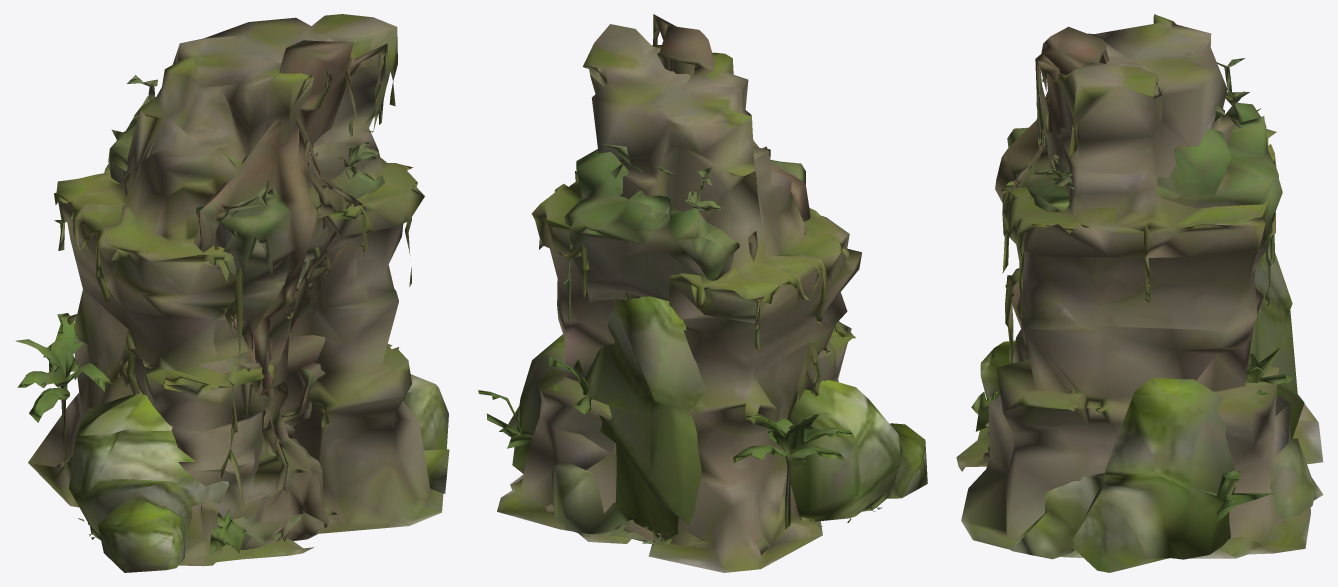
The model's file is penhascos-lod.glb.
The picture shows the model from 3 angles, left to right: view 1: azimuth 30°, elevation 25°; view 2: azimuth 150°, elevation 25°; view 3: azimuth 270°, elevation 25°; orthographic projection. The views are drawn at different scales.
Visible parts, largest first — view 1: falesia, penhasco_raizes, blocos_musgo; view 2: falesia, blocos_musgo, penhasco_raizes; view 3: falesia, blocos_musgo, penhasco_raizes.
Part boxes in pixels (x1=…): falesia: x1=28, y1=14, x2=443, y2=566; penhasco_raizes: x1=53, y1=40, x2=387, y2=549; blocos_musgo: x1=15, y1=313, x2=449, y2=572; falesia: x1=497, y1=24, x2=861, y2=572; blocos_musgo: x1=478, y1=296, x2=927, y2=544; penhasco_raizes: x1=545, y1=14, x2=810, y2=555; falesia: x1=956, y1=14, x2=1323, y2=558; blocos_musgo: x1=971, y1=241, x2=1315, y2=572; penhasco_raizes: x1=983, y1=26, x2=1286, y2=525.
Size of the model in its own units: 0.9214 by 0.9989 by 0.7144.
3 materials, 3 textured.
